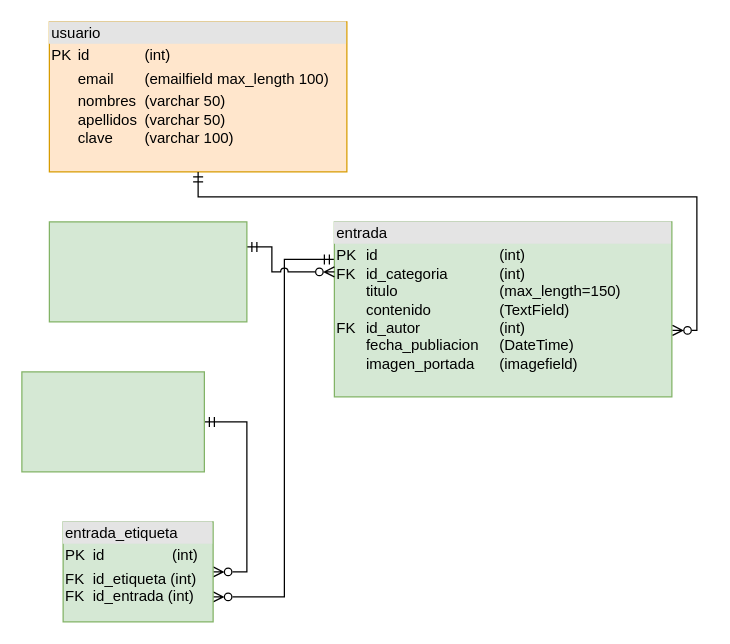
Image size: 730x644. Some labels were removed from this diagram. The centre of each missing label's shape, as x and y in pixels:
"categoria PK id (int) nombre (varchar 30)" goes at [147,271].
"etiqueta PK id (int) nombre (varchar 30)" goes at [112,421].
